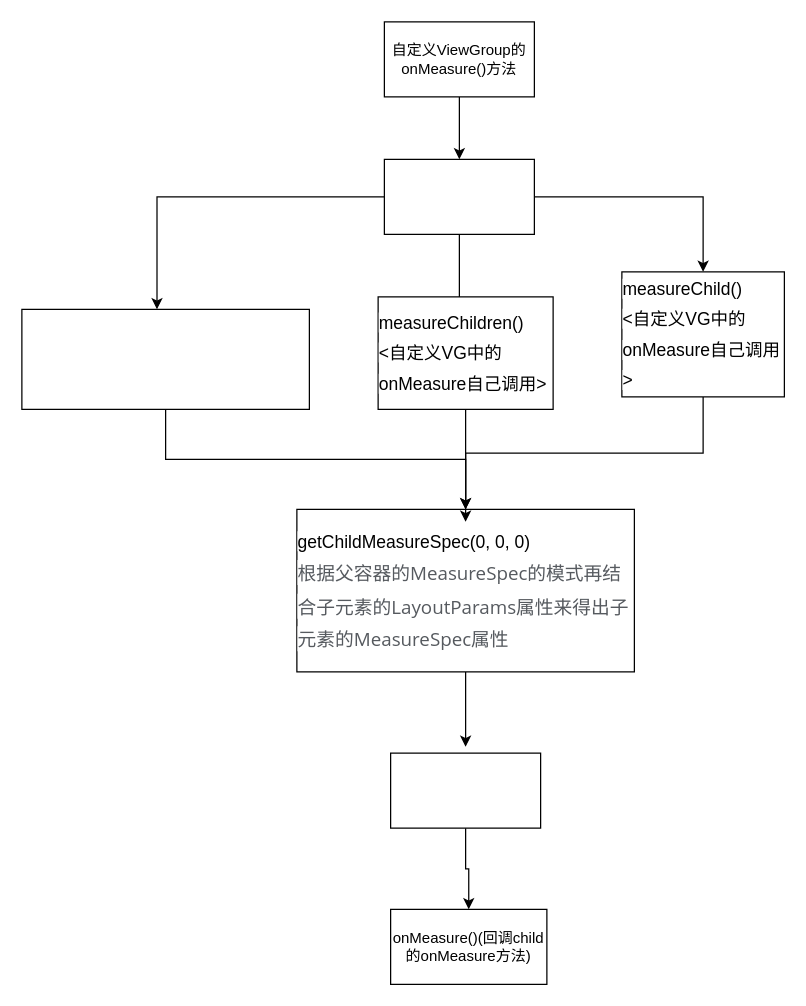
Some shapes in this 806 by 1006 pixel diagram are drawn without their labels. Each missing label, with the centre of its shape:
child.measure(该方法在View.java中): the point at 465,790
measureChildWithMargins() <自定义VG中的onMeasure自己调用>: the point at 165,358
测量子View: the point at 458,196
